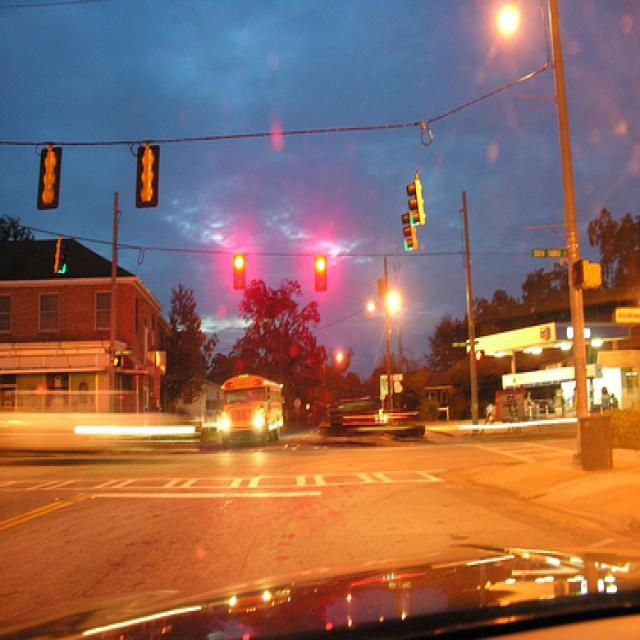Vehicle: (25, 541, 640, 631), (220, 375, 284, 448), (381, 416, 424, 441), (200, 423, 223, 449)
